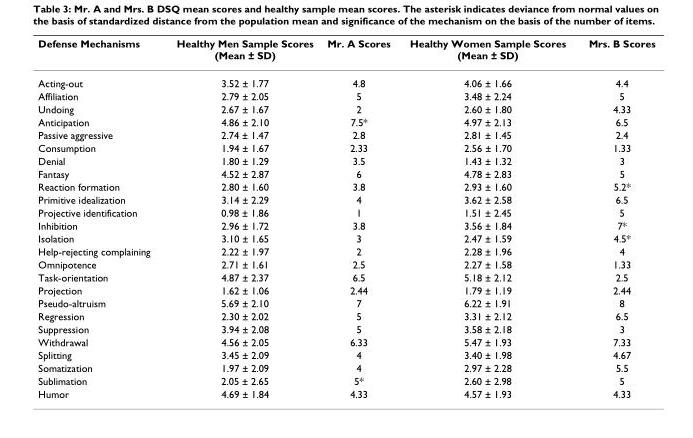table: (37, 36, 654, 399)
table column: (399, 36, 576, 399), (162, 36, 319, 399), (37, 36, 162, 399), (319, 36, 399, 399), (576, 36, 654, 399)
table column header: (37, 36, 654, 68)
table row: (37, 36, 654, 68), (37, 68, 654, 89), (37, 89, 654, 102), (37, 102, 654, 115), (37, 115, 654, 128), (37, 128, 654, 141), (37, 153, 654, 166), (37, 166, 654, 179), (37, 179, 654, 192), (37, 192, 654, 205), (37, 205, 654, 218), (37, 218, 654, 231), (37, 231, 654, 244), (37, 244, 654, 257), (37, 257, 654, 270), (37, 270, 654, 283), (37, 283, 654, 296), (37, 296, 654, 309), (37, 309, 654, 322), (37, 322, 654, 335), (37, 335, 654, 348), (37, 348, 654, 361), (37, 361, 654, 374), (37, 386, 654, 399), (37, 141, 654, 153), (37, 374, 654, 386)
